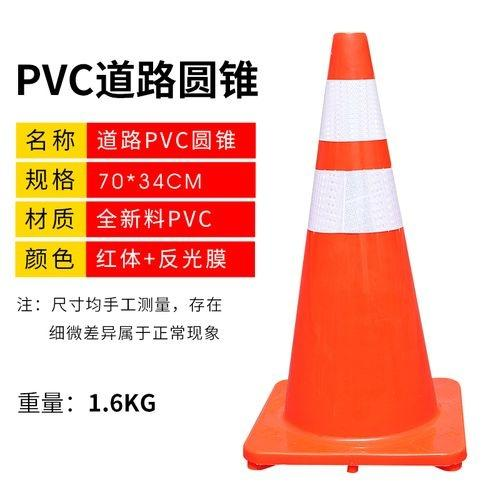cone_barrel: (261, 34, 446, 460)
